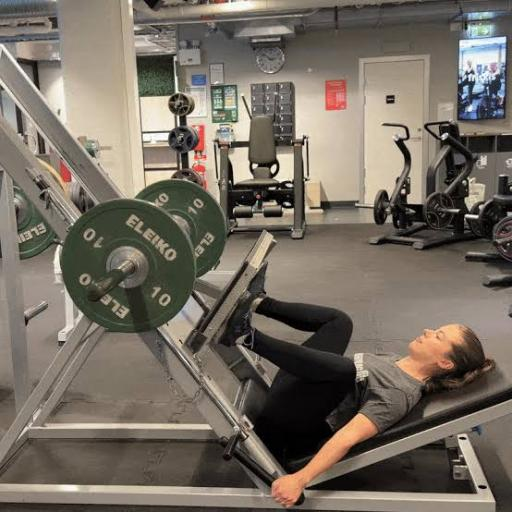Leg Press: (0, 165, 476, 458)
